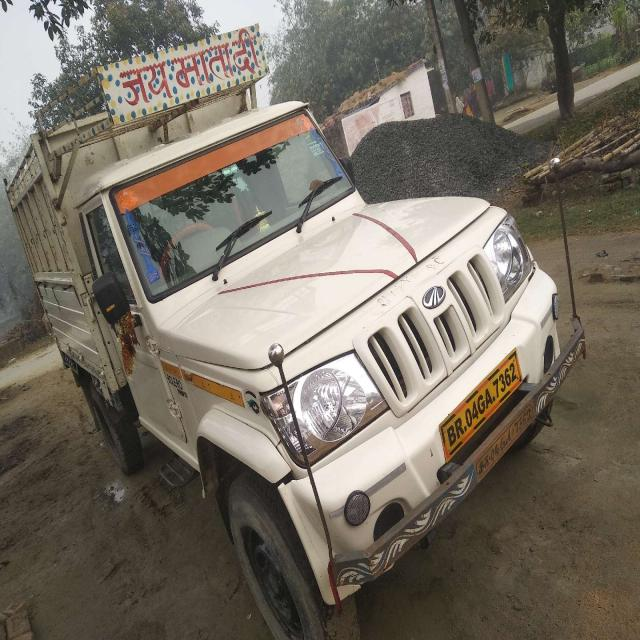light_vehicle: (23, 108, 574, 555)
